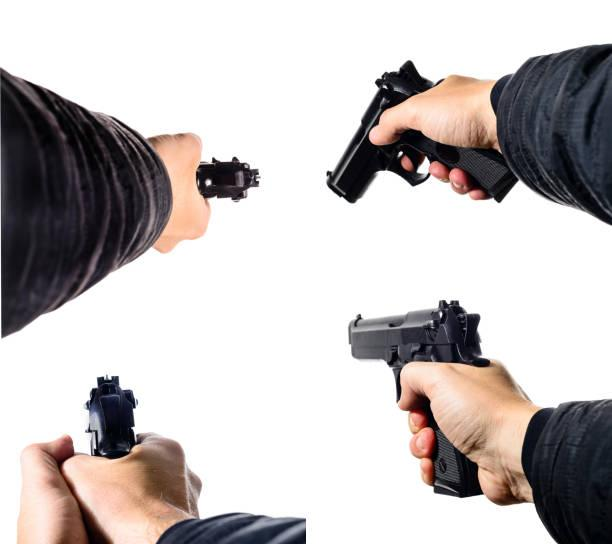weapon: (333, 295, 501, 509), (321, 49, 522, 210), (58, 367, 151, 469)
